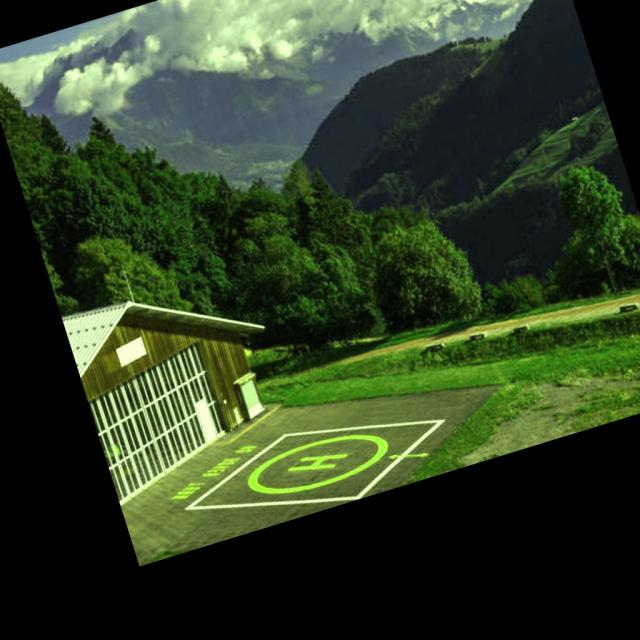helipad: (243, 431, 389, 495)
